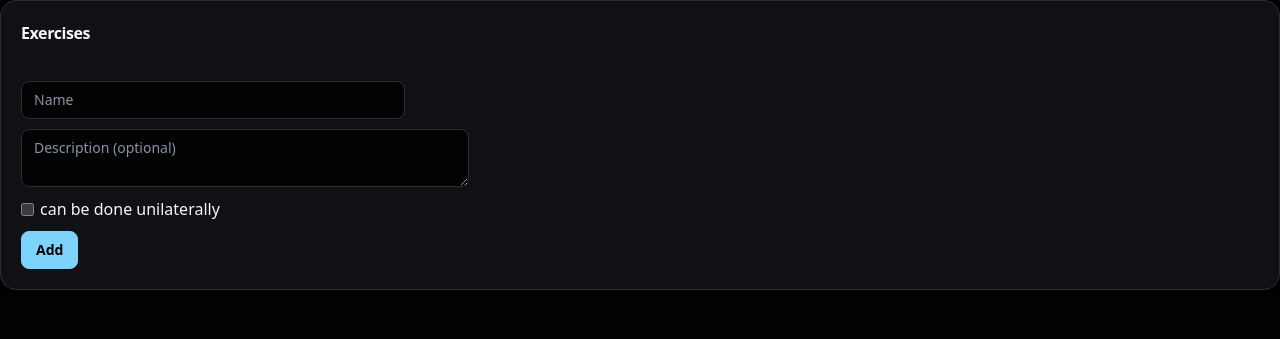
Scenario: Exercises › shows the server error message when creating fails
This screenshot has width=1280, height=339.
Expected: the button "Add" is shown, x1=21 y1=231 x2=78 y2=269
Type "Duplicate" into the field with placeholder "Name". click: (213, 100)
box: x1=21 y1=81 x2=405 y2=119
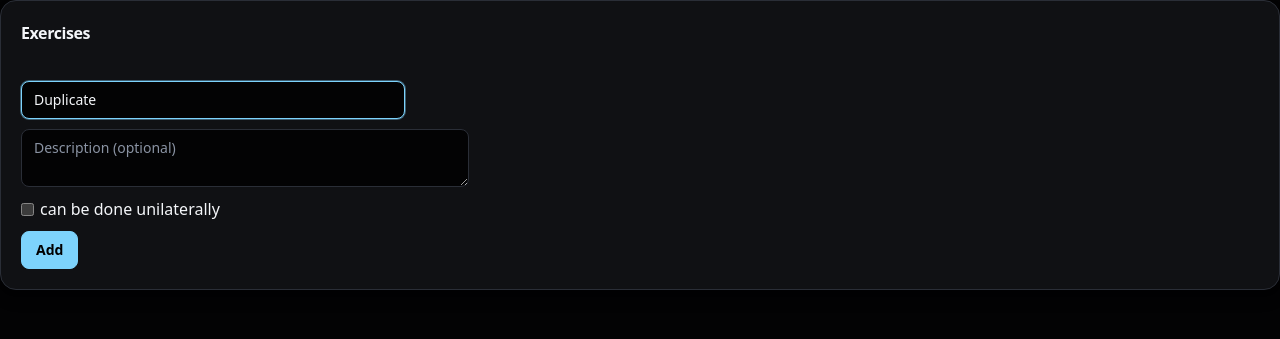
Click the button "Add". click: (50, 250)
box: x1=21 y1=231 x2=78 y2=269
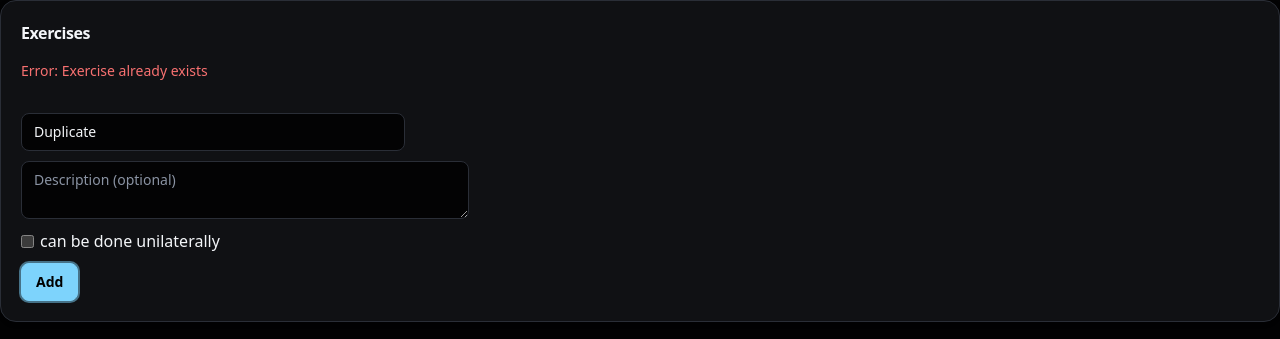
Expected: the text "Error: Exercise already exists" is shown, x1=21 y1=61 x2=208 y2=80
